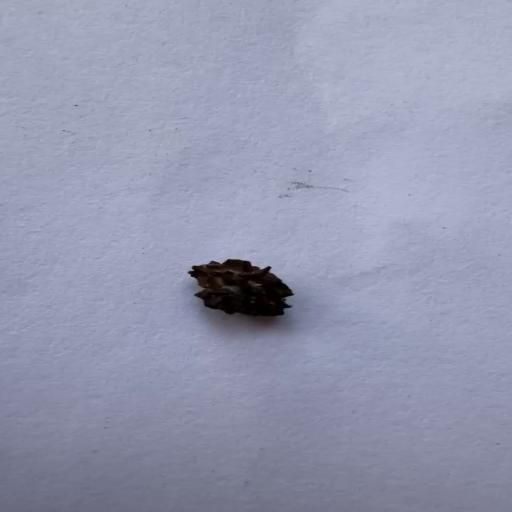papaya_seed: (188, 257, 296, 318)
